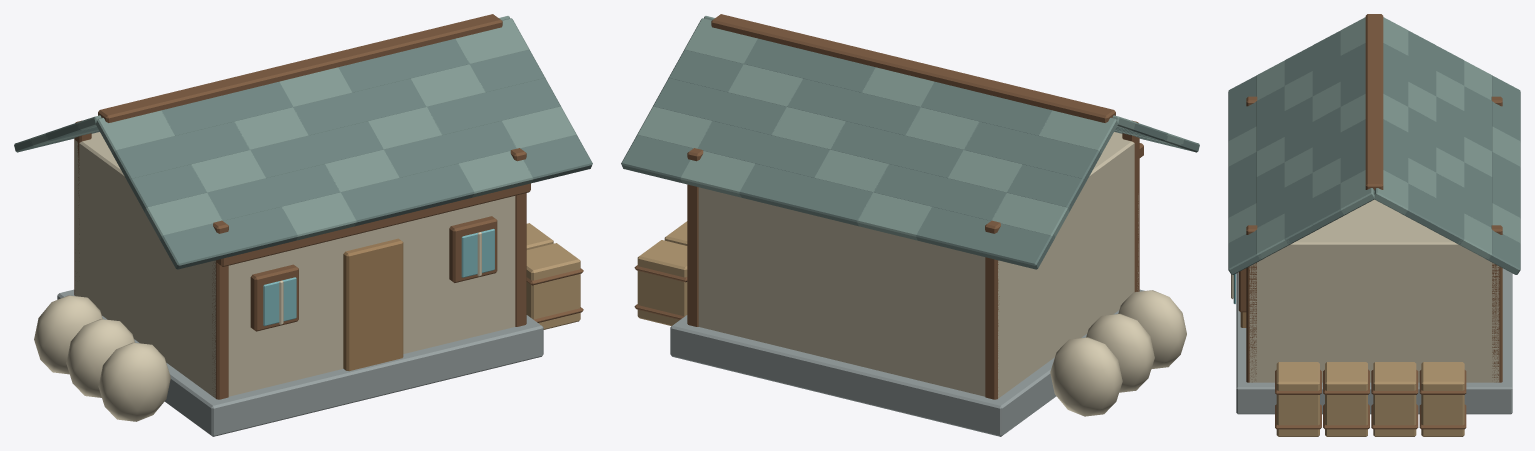
Rendered from storehouse.glb.
3 views of the same model, side by side, from view 1: azimuth 30°, elevation 25°; view 2: azimuth 150°, elevation 25°; view 3: azimuth 270°, elevation 25° (orthographic). The views are drawn at different scales.
Parts seen in each view (by area): view 1: Model; view 2: Model; view 3: Model.
Boxes of the visible parts, x1,y1,x2,y2 form: Model: (14, 14, 592, 436); Model: (621, 14, 1199, 436); Model: (1228, 14, 1520, 436).
Size of the model in its own units: 3.72 by 2.16 by 2.3.
